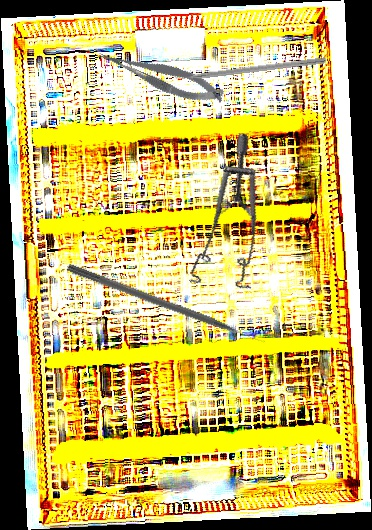Chopper: (165, 49, 327, 83)
Micro Scissor: (95, 34, 228, 116)
Pusher: (65, 262, 266, 349)
Speculum: (150, 131, 294, 307)
